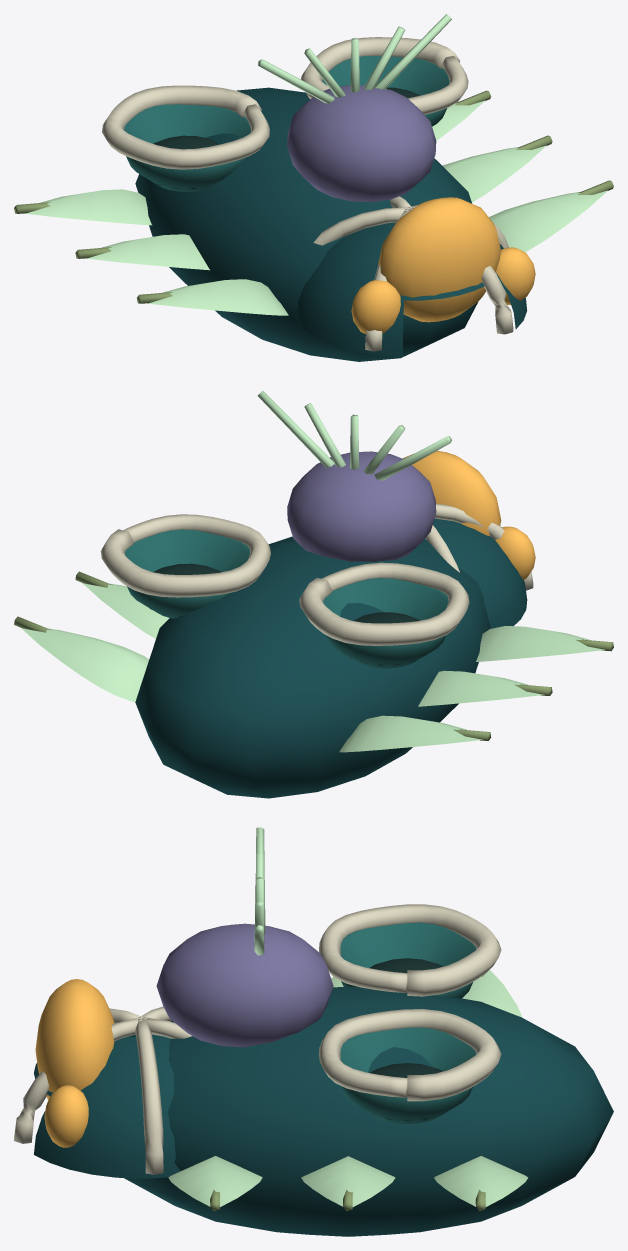
Rendered from unit_memory_carrier_a.obj.
3 views of the same model, one above another, from view 1: azimuth 30°, elevation 25°; view 2: azimuth 150°, elevation 25°; view 3: azimuth 270°, elevation 25° (orthographic). The views are drawn at different scales.
Parts seen in each view (by area): view 1: streamlined_abdomen.006, protected_ganglion, warm_occupied_cavity.033, inhabited_shell.033, grown_cup_lip.125, open_living_cup.125, grown_cup_lip.126, bent_living_blade.208, bent_living_blade.205, bent_living_blade.207, open_living_cup.126, bent_living_blade.206 (+13 smaller); view 2: streamlined_abdomen.006, protected_ganglion, grown_cup_lip.126, grown_cup_lip.125, open_living_cup.125, open_living_cup.126, inhabited_shell.033, bent_living_blade.210, warm_occupied_cavity.033, bent_living_blade.207, bent_living_blade.205, bent_living_blade.206 (+8 smaller); view 3: streamlined_abdomen.006, protected_ganglion, inhabited_shell.033, grown_cup_lip.126, grown_cup_lip.125, warm_occupied_cavity.033, open_living_cup.126, open_living_cup.125, growth_seam.219, bent_living_blade.210, bent_living_blade.208, bent_living_blade.209 (+6 smaller).
Part boxes in pixels (x1=…): streamlined_abdomen.006: x1=135, y1=87, x2=477, y2=361; protected_ganglion: x1=287, y1=85, x2=436, y2=202; warm_occupied_cavity.033: x1=378, y1=197, x2=501, y2=322; inhabited_shell.033: x1=294, y1=222, x2=527, y2=357; grown_cup_lip.125: x1=102, y1=85, x2=269, y2=169; open_living_cup.125: x1=124, y1=104, x2=250, y2=191; grown_cup_lip.126: x1=301, y1=37, x2=468, y2=114; bent_living_blade.208: x1=489, y1=190, x2=607, y2=252; bent_living_blade.205: x1=147, y1=279, x2=288, y2=315; bent_living_blade.207: x1=25, y1=189, x2=152, y2=225; open_living_cup.126: x1=322, y1=56, x2=449, y2=126; bent_living_blade.206: x1=85, y1=234, x2=209, y2=270; streamlined_abdomen.006: x1=135, y1=536, x2=490, y2=798; protected_ganglion: x1=287, y1=451, x2=436, y2=561; grown_cup_lip.126: x1=100, y1=514, x2=270, y2=597; grown_cup_lip.125: x1=299, y1=562, x2=469, y2=645; open_living_cup.125: x1=323, y1=578, x2=448, y2=668; open_living_cup.126: x1=125, y1=529, x2=249, y2=618; inhabited_shell.033: x1=425, y1=518, x2=527, y2=628; bent_living_blade.210: x1=21, y1=628, x2=148, y2=701; warm_occupied_cavity.033: x1=402, y1=450, x2=501, y2=535; bent_living_blade.207: x1=339, y1=715, x2=482, y2=752; bent_living_blade.205: x1=476, y1=626, x2=604, y2=661; bent_living_blade.206: x1=418, y1=670, x2=543, y2=706; streamlined_abdomen.006: x1=124, y1=986, x2=613, y2=1236; protected_ganglion: x1=156, y1=923, x2=333, y2=1047; inhabited_shell.033: x1=34, y1=1034, x2=180, y2=1178; grown_cup_lip.126: x1=319, y1=1009, x2=501, y2=1101; grown_cup_lip.125: x1=319, y1=904, x2=501, y2=996; warm_occupied_cavity.033: x1=35, y1=979, x2=114, y2=1100; open_living_cup.126: x1=340, y1=1027, x2=476, y2=1123; open_living_cup.125: x1=340, y1=922, x2=476, y2=998; growth_seam.219: x1=135, y1=1018, x2=163, y2=1174; bent_living_blade.210: x1=434, y1=1156, x2=528, y2=1206; bent_living_blade.208: x1=168, y1=1156, x2=262, y2=1206; bent_living_blade.209: x1=301, y1=1156, x2=395, y2=1206.
Size of the model in its own units: 2.01 by 1.28 by 2.03.
